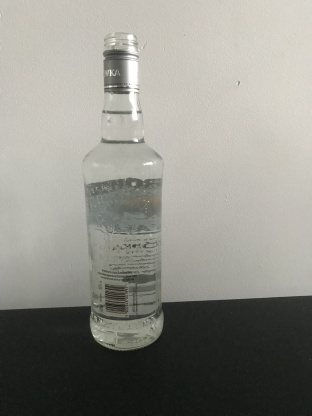nakretka: (101, 30, 141, 93)
